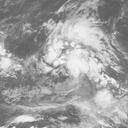cyclone: (51, 22, 104, 77)
